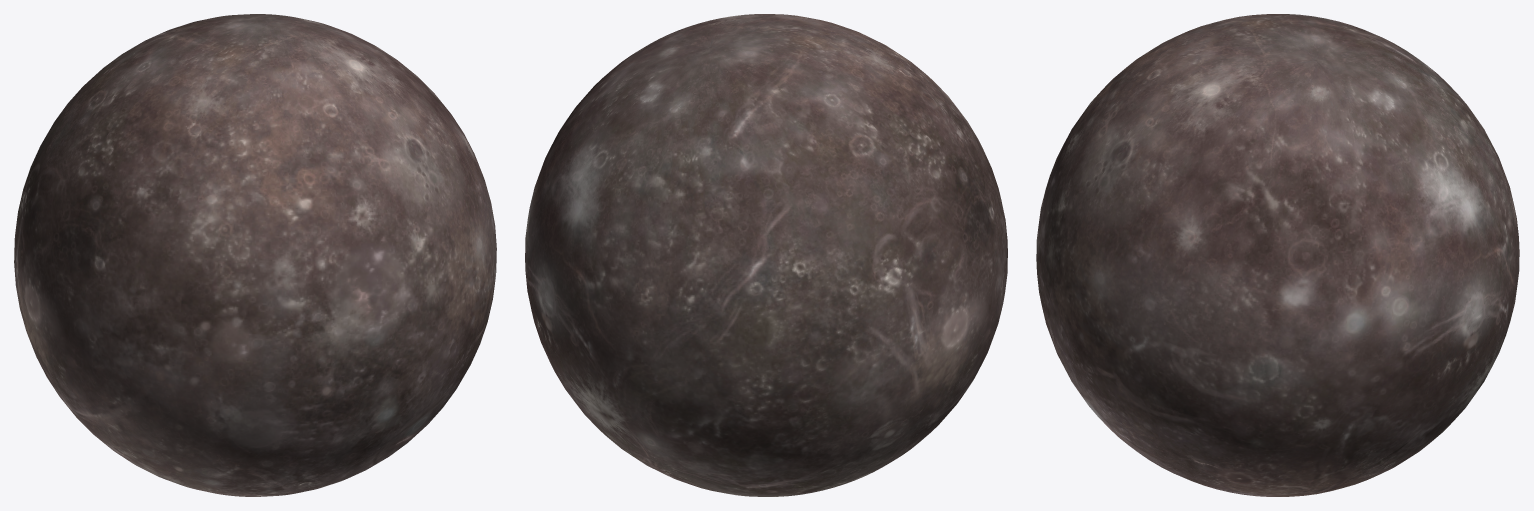
The model's file is titania.fbx.
The picture shows the model from 3 angles, left to right: view 1: azimuth 30°, elevation 25°; view 2: azimuth 150°, elevation 25°; view 3: azimuth 270°, elevation 25°; orthographic projection.
Visible parts, largest first — view 1: Sphere; view 2: Sphere; view 3: Sphere.
Part boxes in pixels (x1=…): Sphere: x1=14, y1=14, x2=496, y2=496; Sphere: x1=525, y1=14, x2=1007, y2=496; Sphere: x1=1036, y1=14, x2=1519, y2=496.
Bounding box in the file's own units: 200 × 200 × 200.
